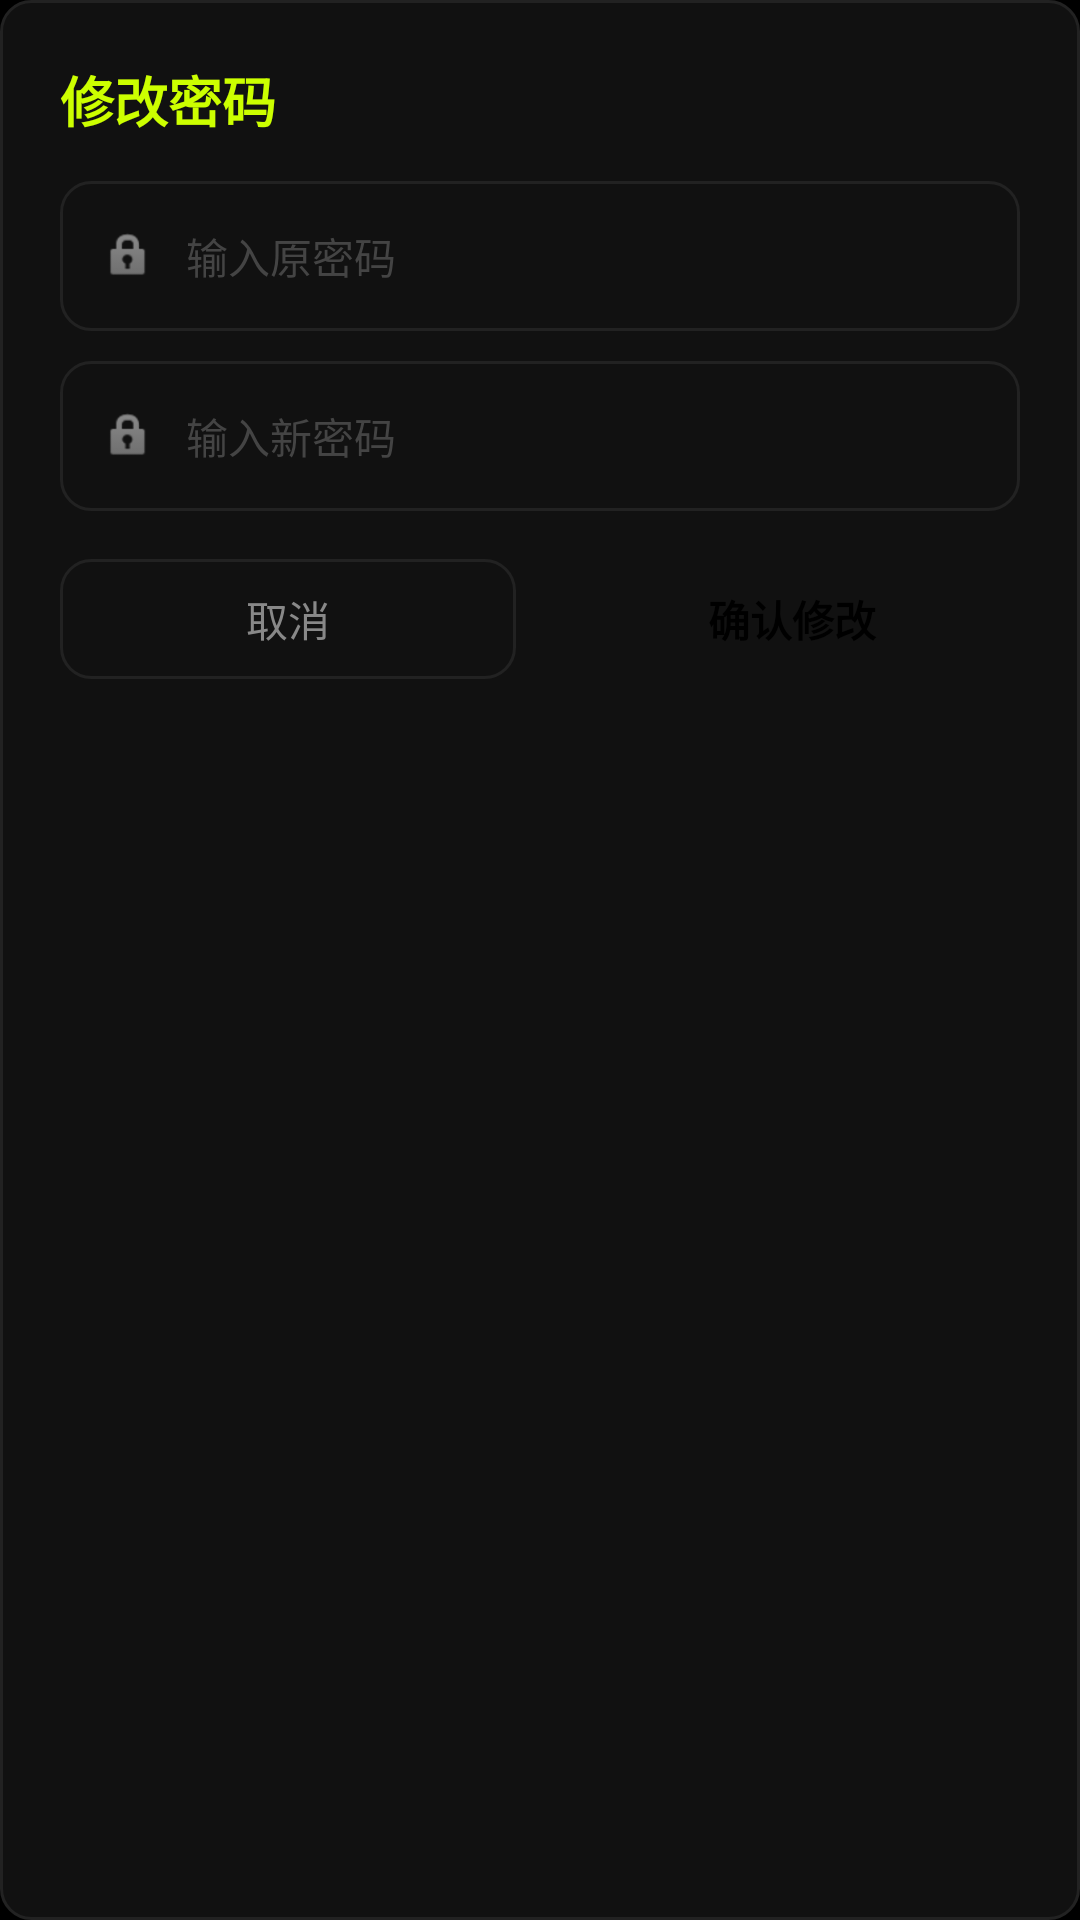

Where icons sit on this 1080w x 1920h app screen, as [x1,y1,x2,y2]:
lock idle: [110,234,145,275], [110,414,145,455]
